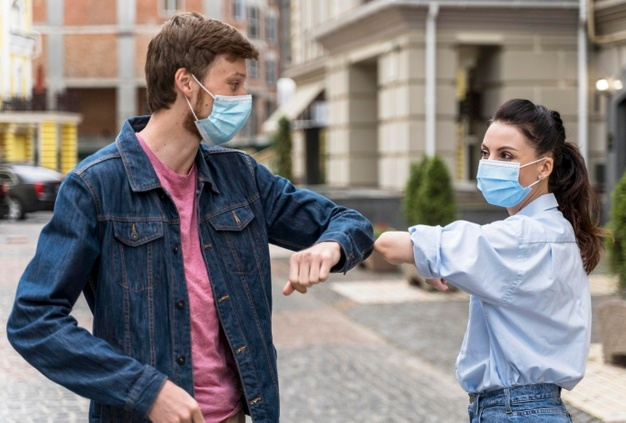with_mask: (474, 135, 537, 209), (201, 64, 255, 149)
